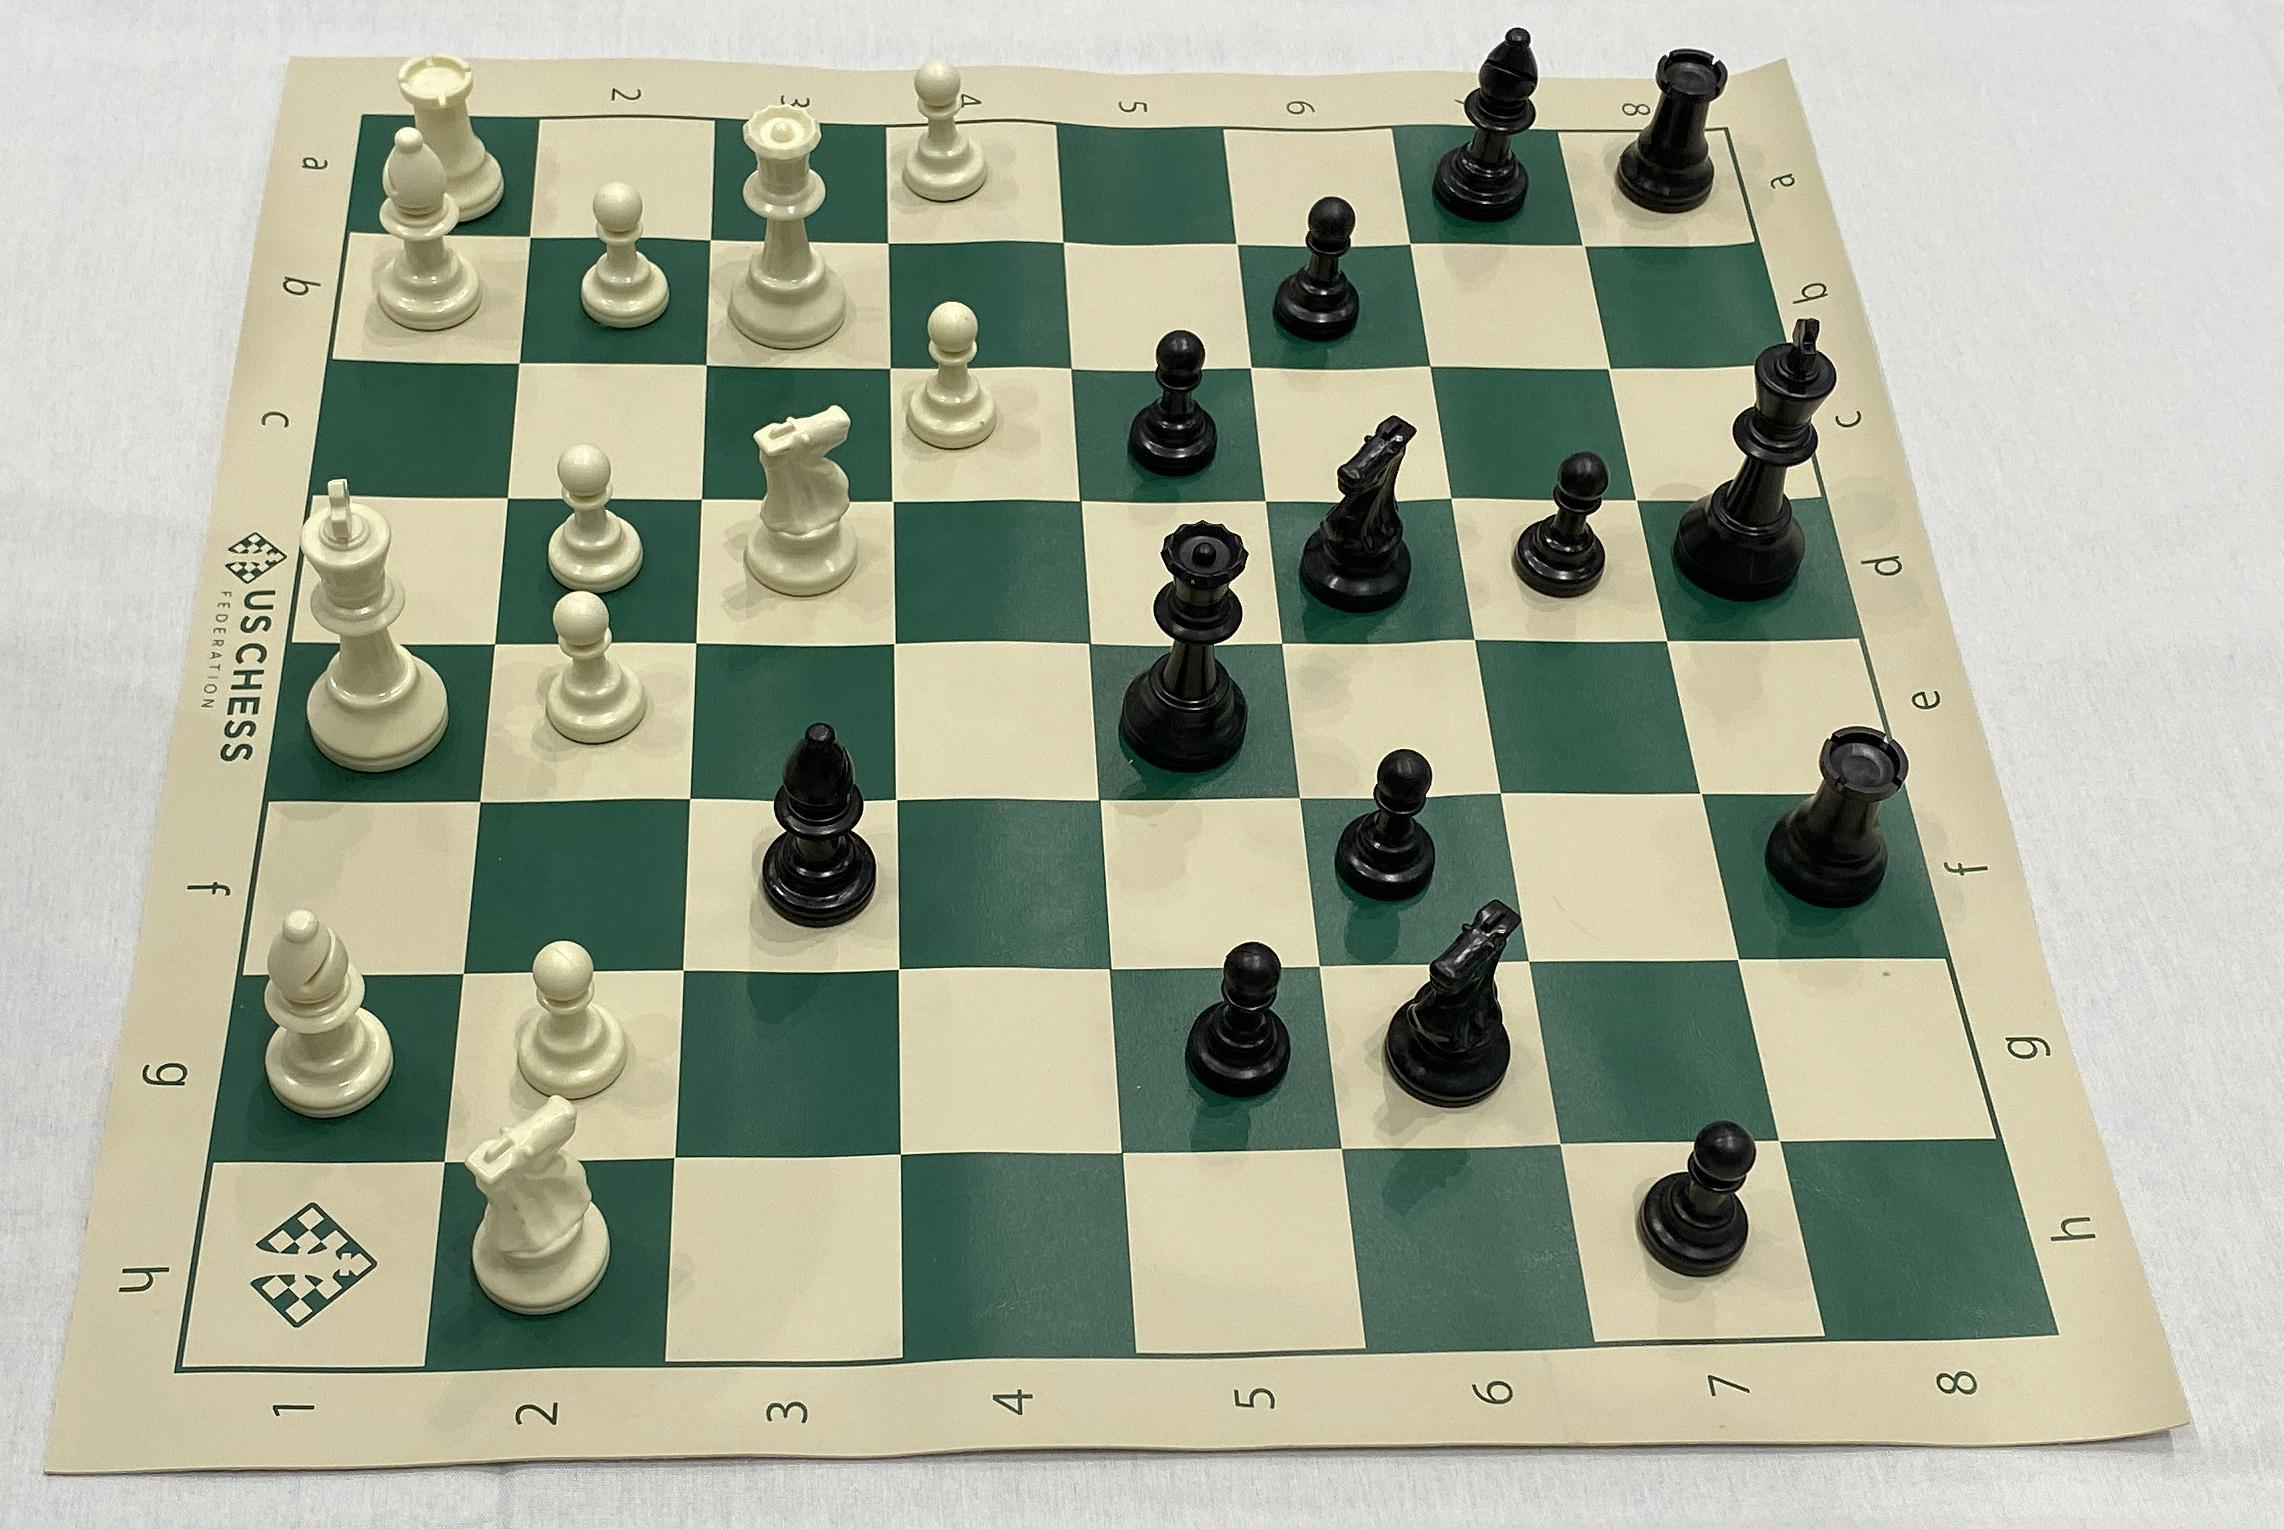black-bishop: (751, 708, 892, 935), (1429, 15, 1549, 227)
black-king: (1663, 304, 1841, 611)
black-knight: (1378, 884, 1540, 1118), (1295, 406, 1426, 621)
black-pawn: (1622, 1109, 1759, 1287), (1322, 741, 1443, 911), (1261, 181, 1377, 353), (1189, 933, 1296, 1104), (1510, 445, 1619, 611), (1121, 323, 1233, 481)
black-queen: (1112, 515, 1262, 782)
black-rook: (1750, 708, 1912, 913), (1612, 34, 1735, 227)
white-bishop: (242, 898, 404, 1126), (368, 118, 491, 336)
white-king: (276, 464, 472, 776)
white-knight: (464, 1085, 623, 1323), (730, 394, 877, 613)
white-pawn: (529, 584, 655, 759), (508, 930, 633, 1102), (884, 48, 1000, 213), (896, 288, 1006, 459), (568, 172, 681, 336), (536, 435, 648, 596)
white-queen: (720, 92, 861, 358)
white-rook: (389, 36, 507, 229)
